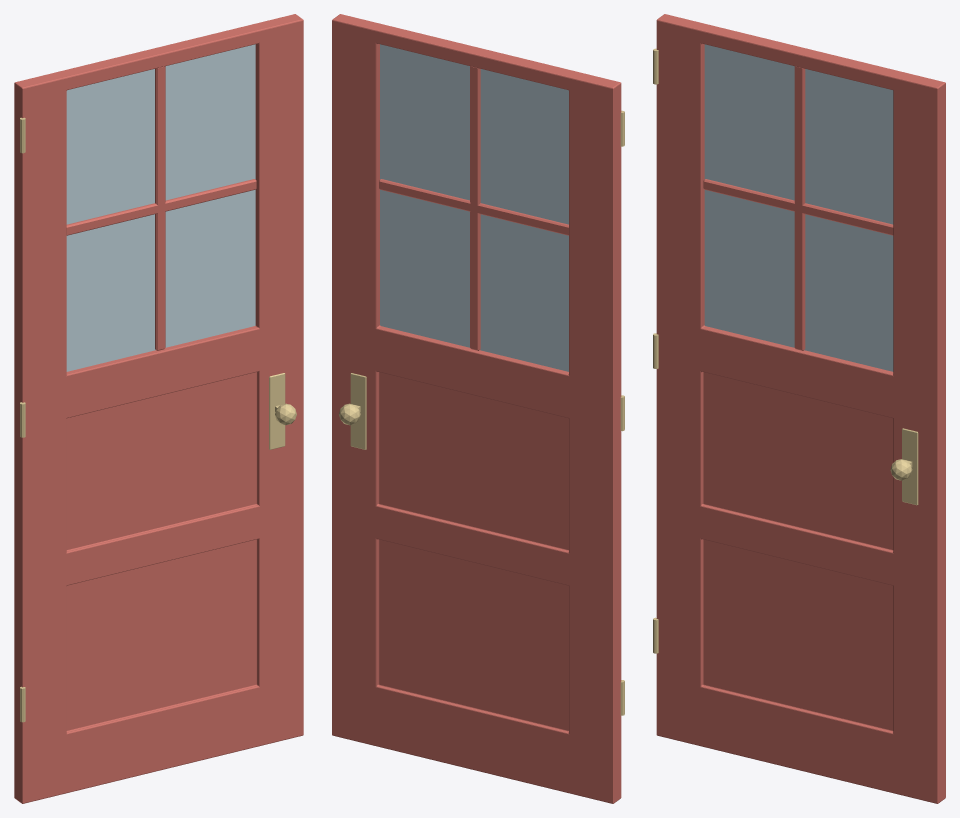
The model's file is door_leaf_back.glb.
3 views of the same model, side by side, from view 1: azimuth 30°, elevation 25°; view 2: azimuth 150°, elevation 25°; view 3: azimuth 330°, elevation 25° (orthographic).
Parts seen in each view (by area): view 1: door_leaf_back_door, door_leaf_back_glass, door_leaf_back_brass; view 2: door_leaf_back_door, door_leaf_back_glass, door_leaf_back_brass; view 3: door_leaf_back_door, door_leaf_back_glass, door_leaf_back_brass.
Boxes of the visible parts, box(x1,y1,x2,y2) form: door_leaf_back_door: box(14, 14, 303, 803); door_leaf_back_glass: box(66, 44, 255, 371); door_leaf_back_brass: box(20, 117, 296, 722); door_leaf_back_door: box(332, 14, 621, 803); door_leaf_back_glass: box(380, 44, 568, 371); door_leaf_back_brass: box(338, 110, 624, 715); door_leaf_back_door: box(656, 14, 945, 803); door_leaf_back_glass: box(704, 44, 893, 371); door_leaf_back_brass: box(653, 48, 918, 653).
Bounding box in the file's own units: 0.888 × 2.14 × 0.205.
